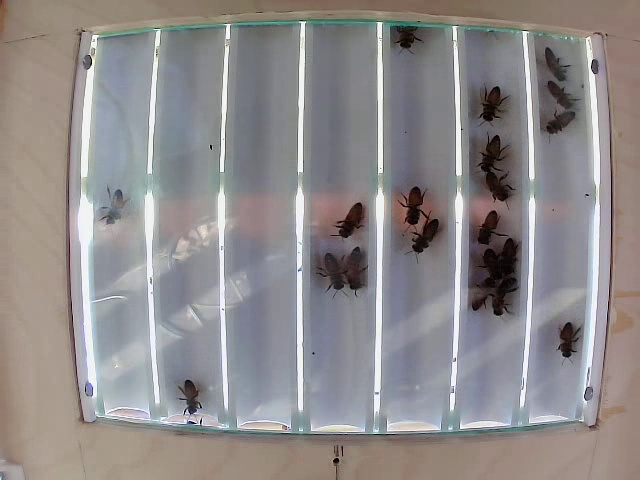bee: (94, 185, 139, 229), (392, 22, 434, 65), (316, 249, 348, 301), (340, 202, 375, 241), (171, 381, 208, 417), (539, 109, 577, 143), (558, 313, 583, 364), (411, 217, 440, 259), (345, 249, 368, 301), (539, 48, 576, 78), (474, 83, 503, 121), (472, 273, 503, 308), (401, 184, 422, 235), (496, 279, 520, 322), (482, 167, 506, 207), (502, 239, 524, 282), (543, 76, 569, 112), (476, 133, 497, 171), (477, 245, 500, 279), (483, 211, 501, 245)
